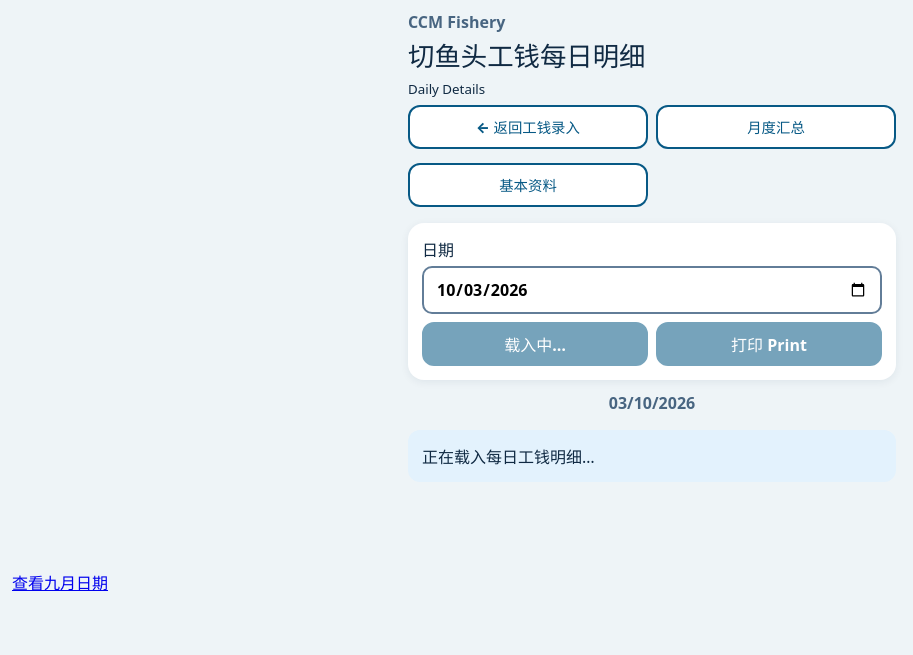
Scenario: 切鱼头工钱当日汇总 › URL 导航日期也立即载入该日，迟到的旧请求不会覆盖新日记录
The width and height of the screenshot is (913, 655).
Click the link "查看九月日期" at x=60, y=583, box [12,572,108,594]
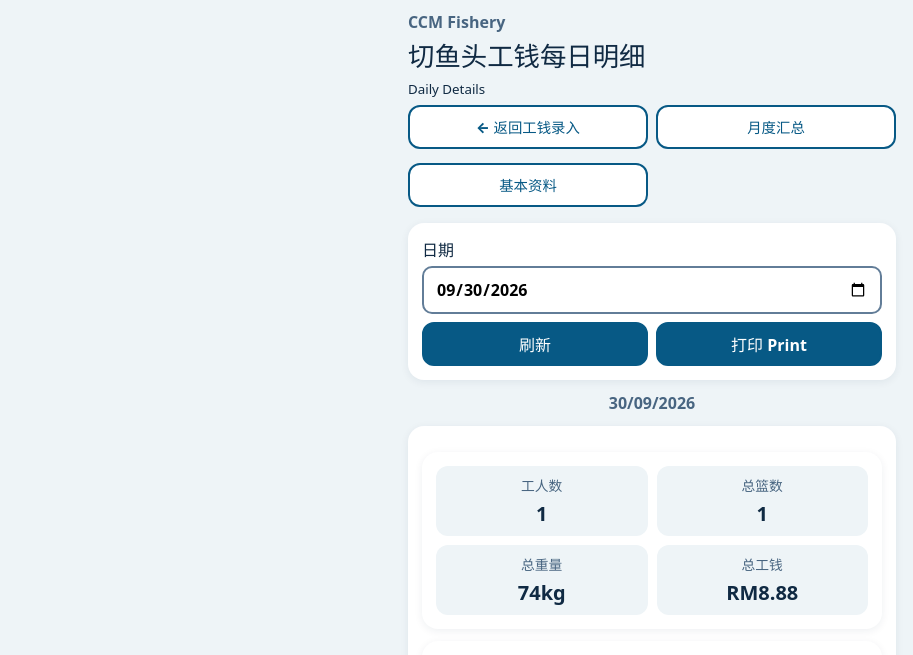
expect the date field labelled "日期" holds "2026-09-30": met, box [422,266,882,314]
expect the button "打印 Print" is enabled: met, box [656,322,882,366]
